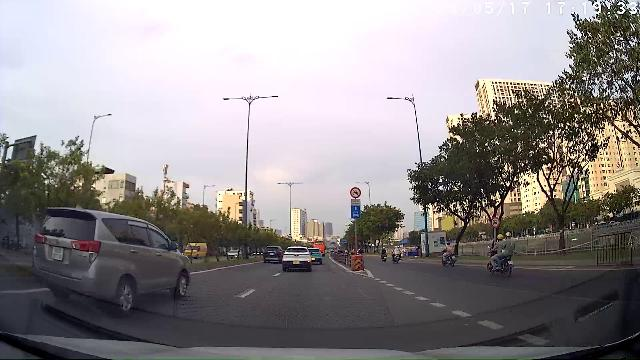103a-cam-oto: (491, 217, 500, 228)
